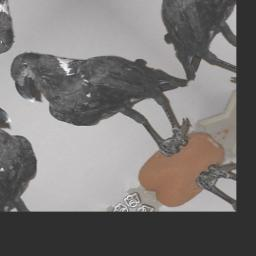Crow: (0, 0, 224, 196)
